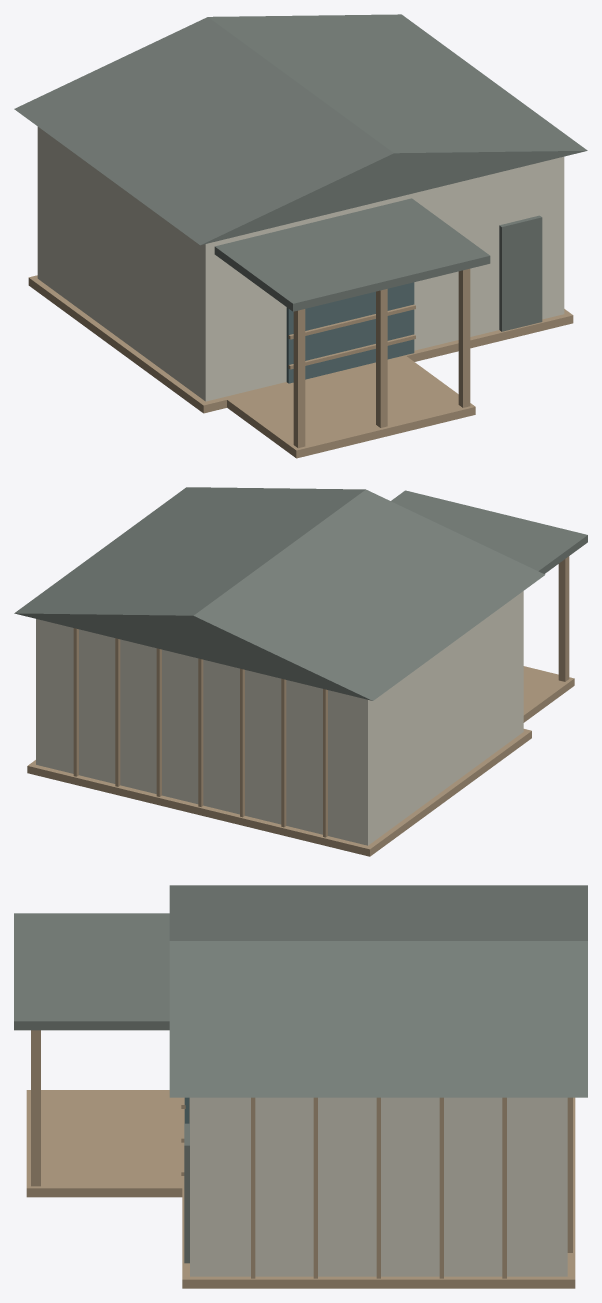
Rendered from maintenance_shed_03.glb.
The picture shows the model from 3 angles, top to bottom: view 1: azimuth 30°, elevation 25°; view 2: azimuth 150°, elevation 25°; view 3: azimuth 270°, elevation 25°; orthographic projection. The views are drawn at different scales.
Parts seen in each view (by area): view 1: Maintenance_shed_03; view 2: Maintenance_shed_03; view 3: Maintenance_shed_03.
Boxes of the visible parts, x1=… form: Maintenance_shed_03: x1=14, y1=14, x2=587, y2=458; Maintenance_shed_03: x1=14, y1=487, x2=587, y2=856; Maintenance_shed_03: x1=14, y1=885, x2=587, y2=1288.
Bounding box in the file's own units: 8.27 × 4.47 × 9.44.
